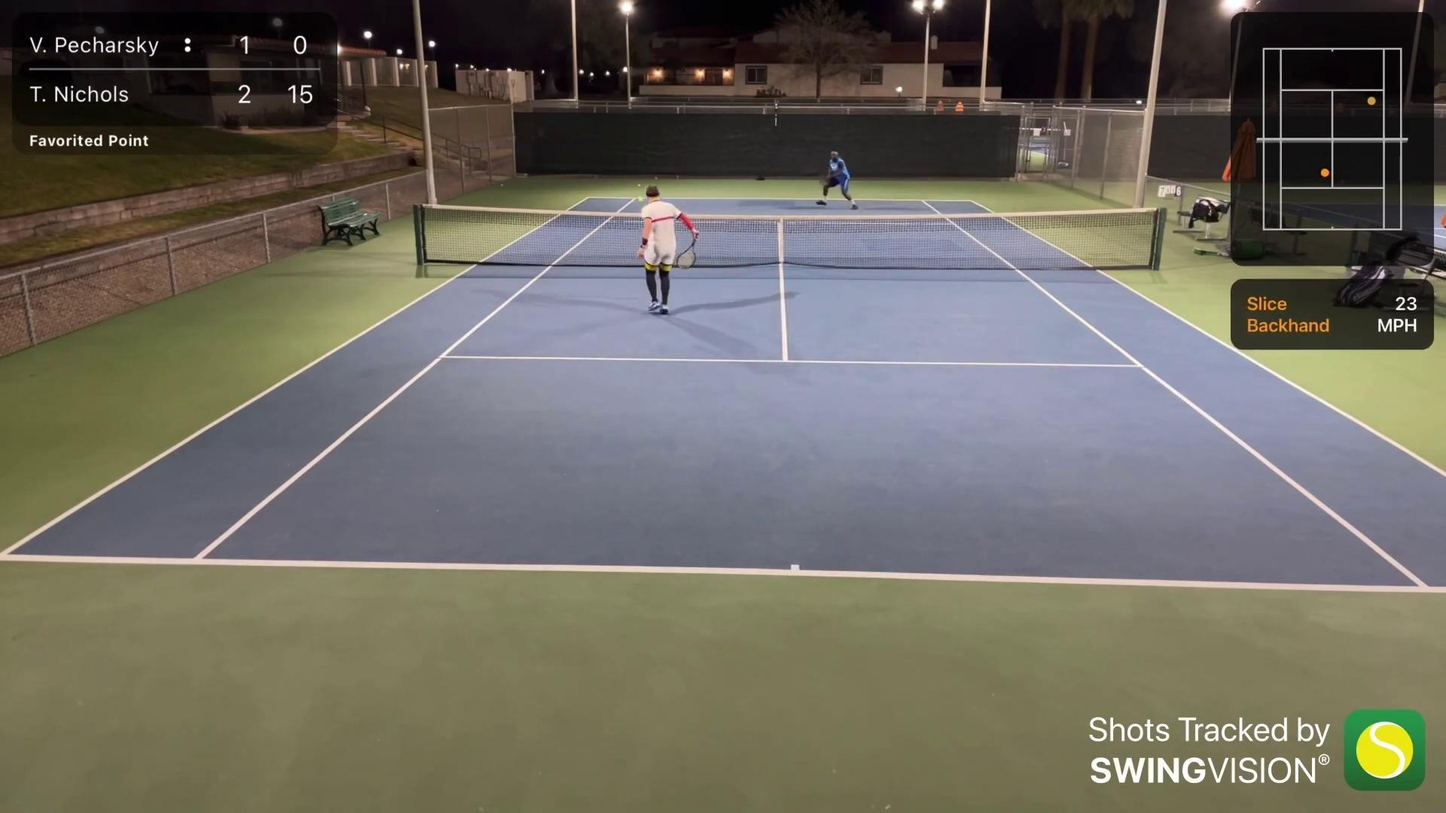ball: (499, 183, 509, 190), (637, 196, 644, 203), (636, 182, 642, 189), (652, 175, 659, 180)
